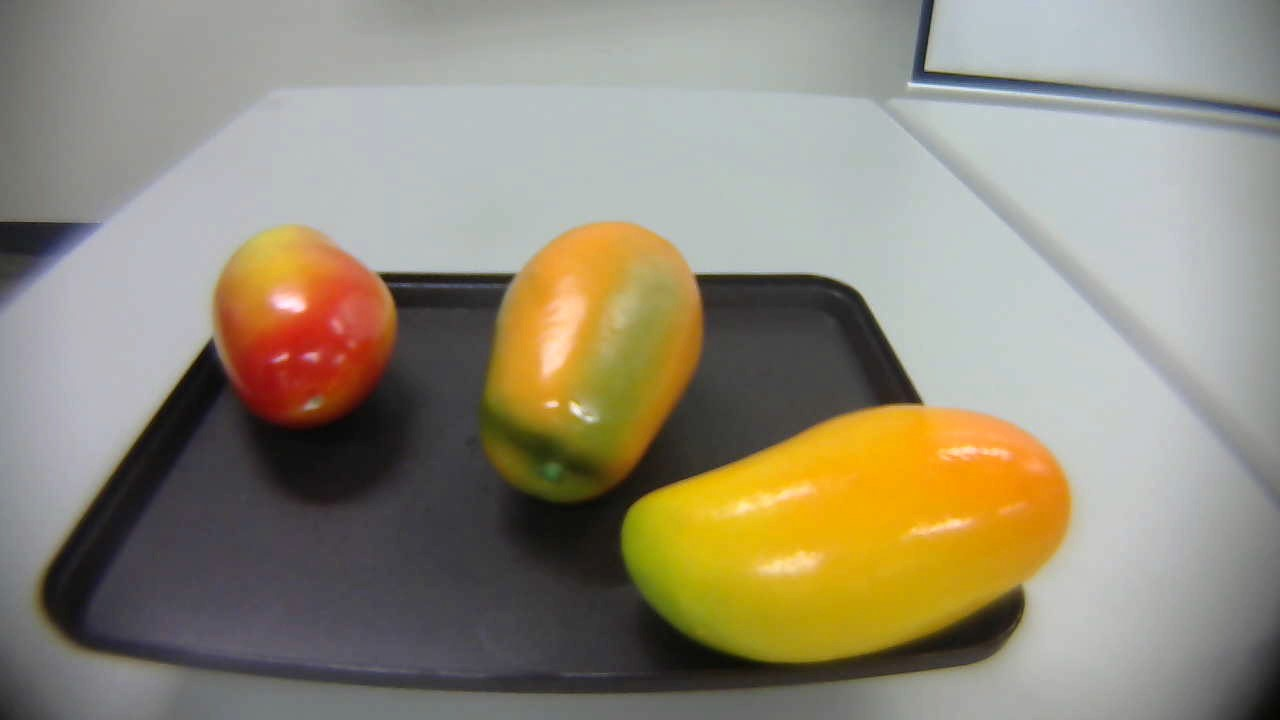papya: (464, 216, 712, 509)
red mango: (204, 222, 401, 437)
yellow mango: (622, 403, 1073, 661)
